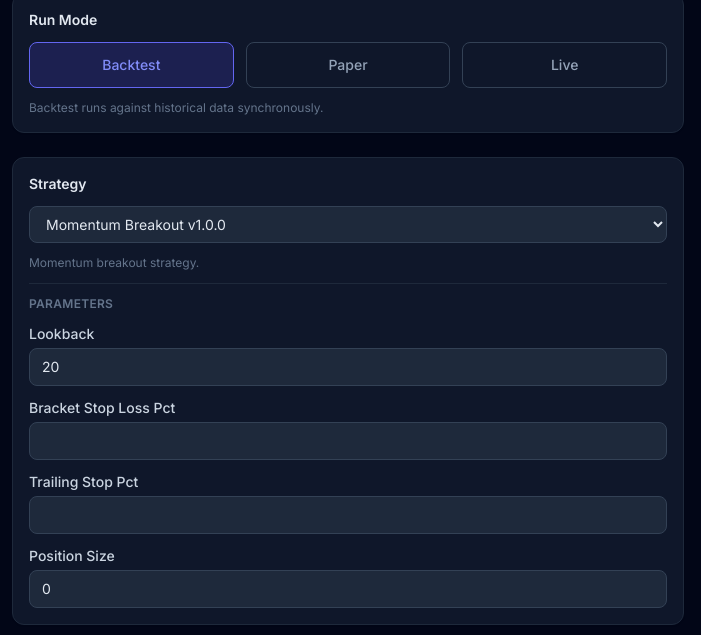
Test: NewRunPage — allowPyramiding control (SY-13a-08/09, CF-13a-1 item 4) › forces the live checkbox to false, disabled, and shows the WP1.3b/WP1.10 explanation
Click the radio button labelled "live". click: (565, 65)
box: [462, 42, 667, 88]
(page scrolled)
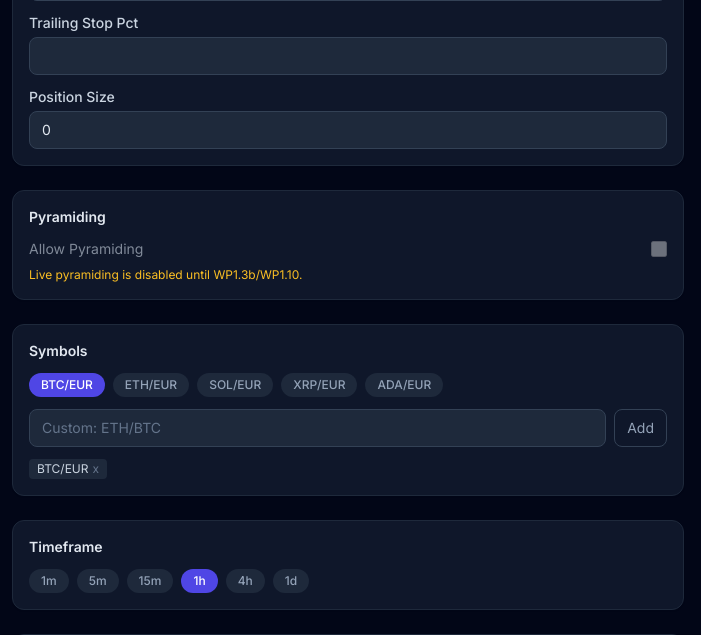
Expected: the checkbox named "Allow Pyramiding (disabled in live mode)" is not checked, [651, 241, 667, 257]
Now the checkbox named "Allow Pyramiding (disabled in live mode)" is disabled, box [651, 241, 667, 257]
Now the text "Live pyramiding is disabled until WP1.3b/WP1.10." is shown, box [29, 267, 302, 282]
